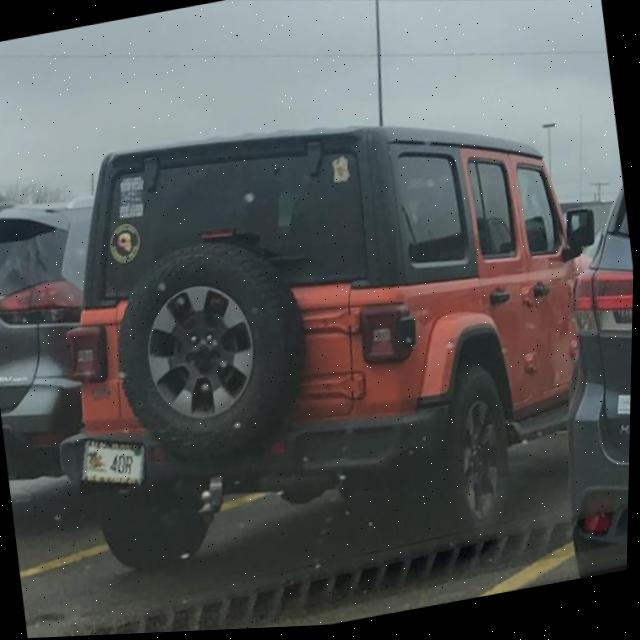LicensePlate: (82, 440, 146, 487)
